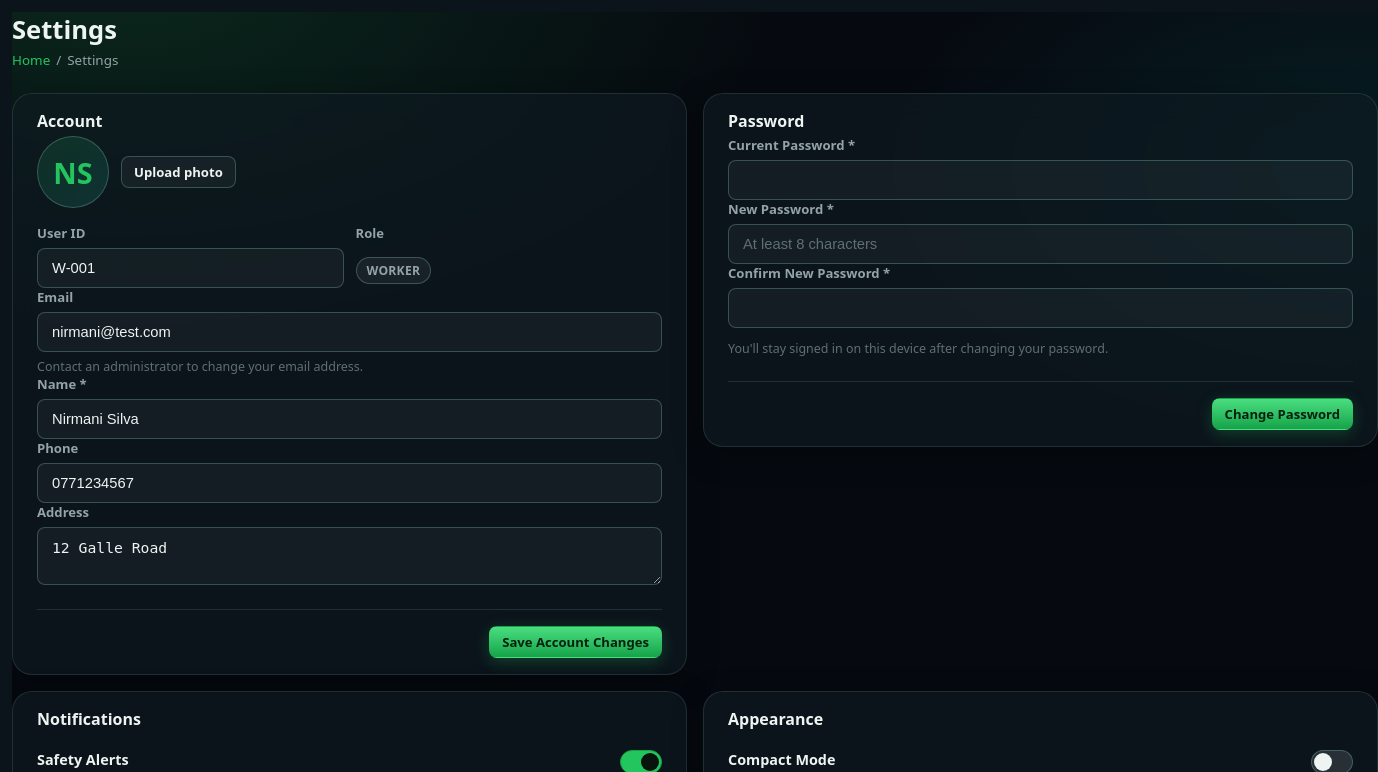
Scenario: SettingsPage — Account › saves account changes and updates AuthContext
Replace the text in the field showing "Nirmani Silva" with "Nirmani Updated" at (350, 419), box [37,399,662,439]
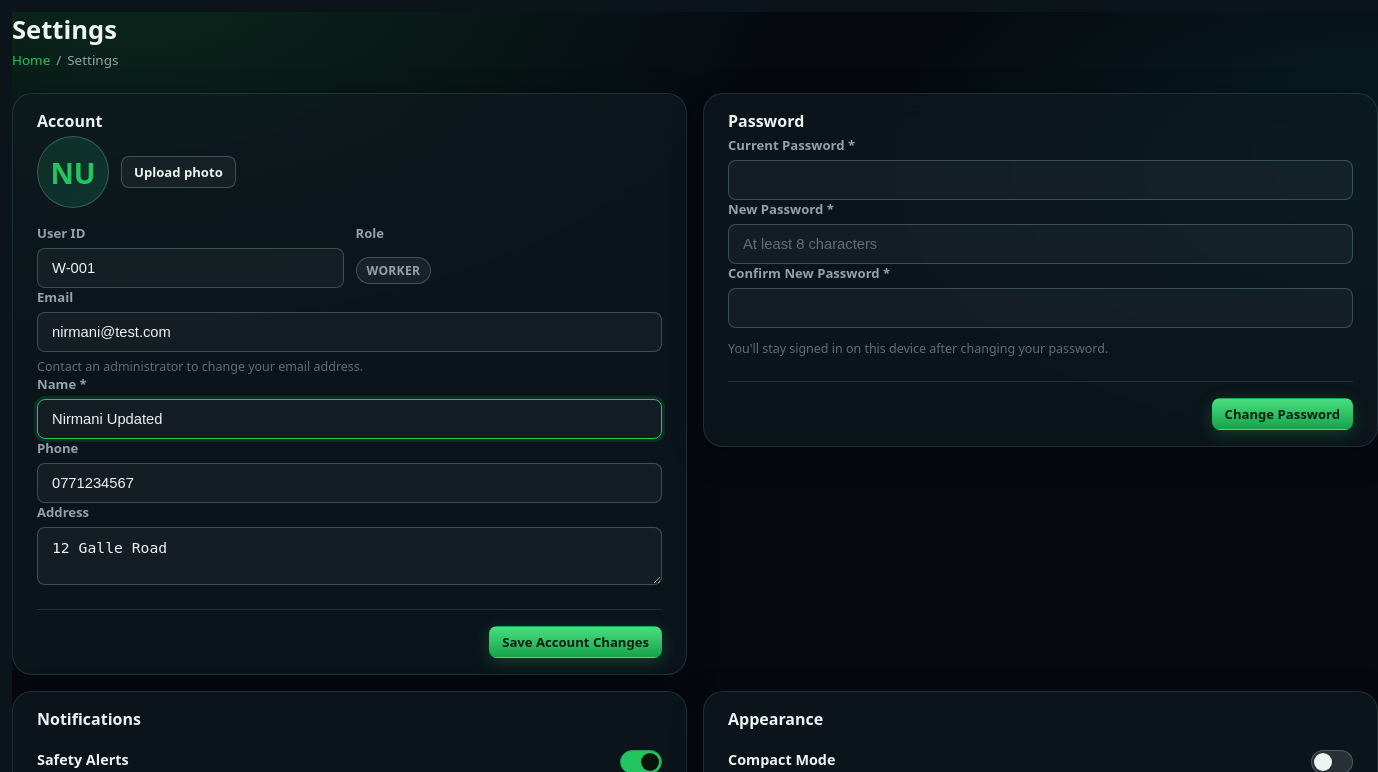
Click the button "Save Account Changes" at (576, 642), box [489,626,662,658]
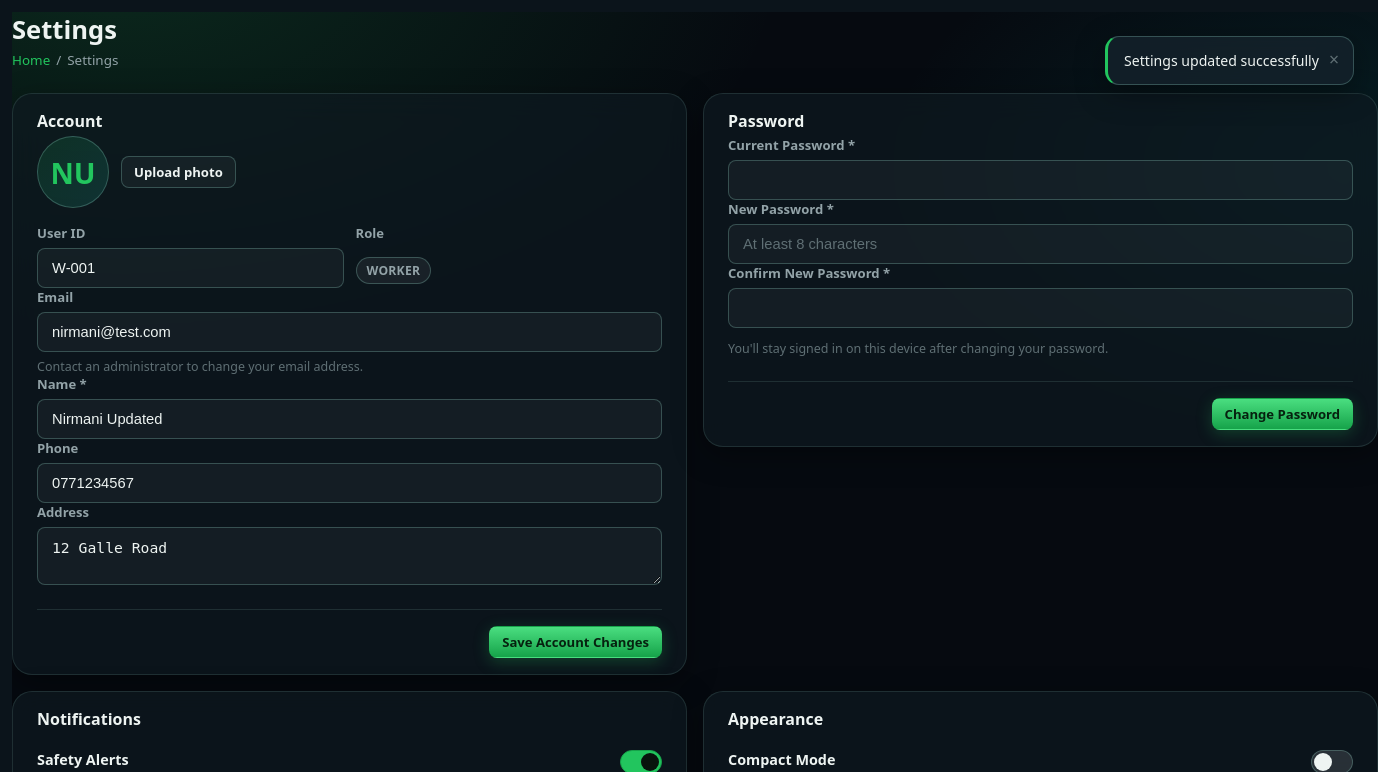
Check: the text "Settings updated successfully" is shown, box [1124,51,1319,70]
